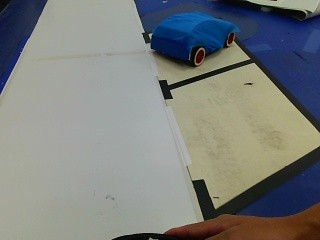car: (151, 9, 237, 69)
